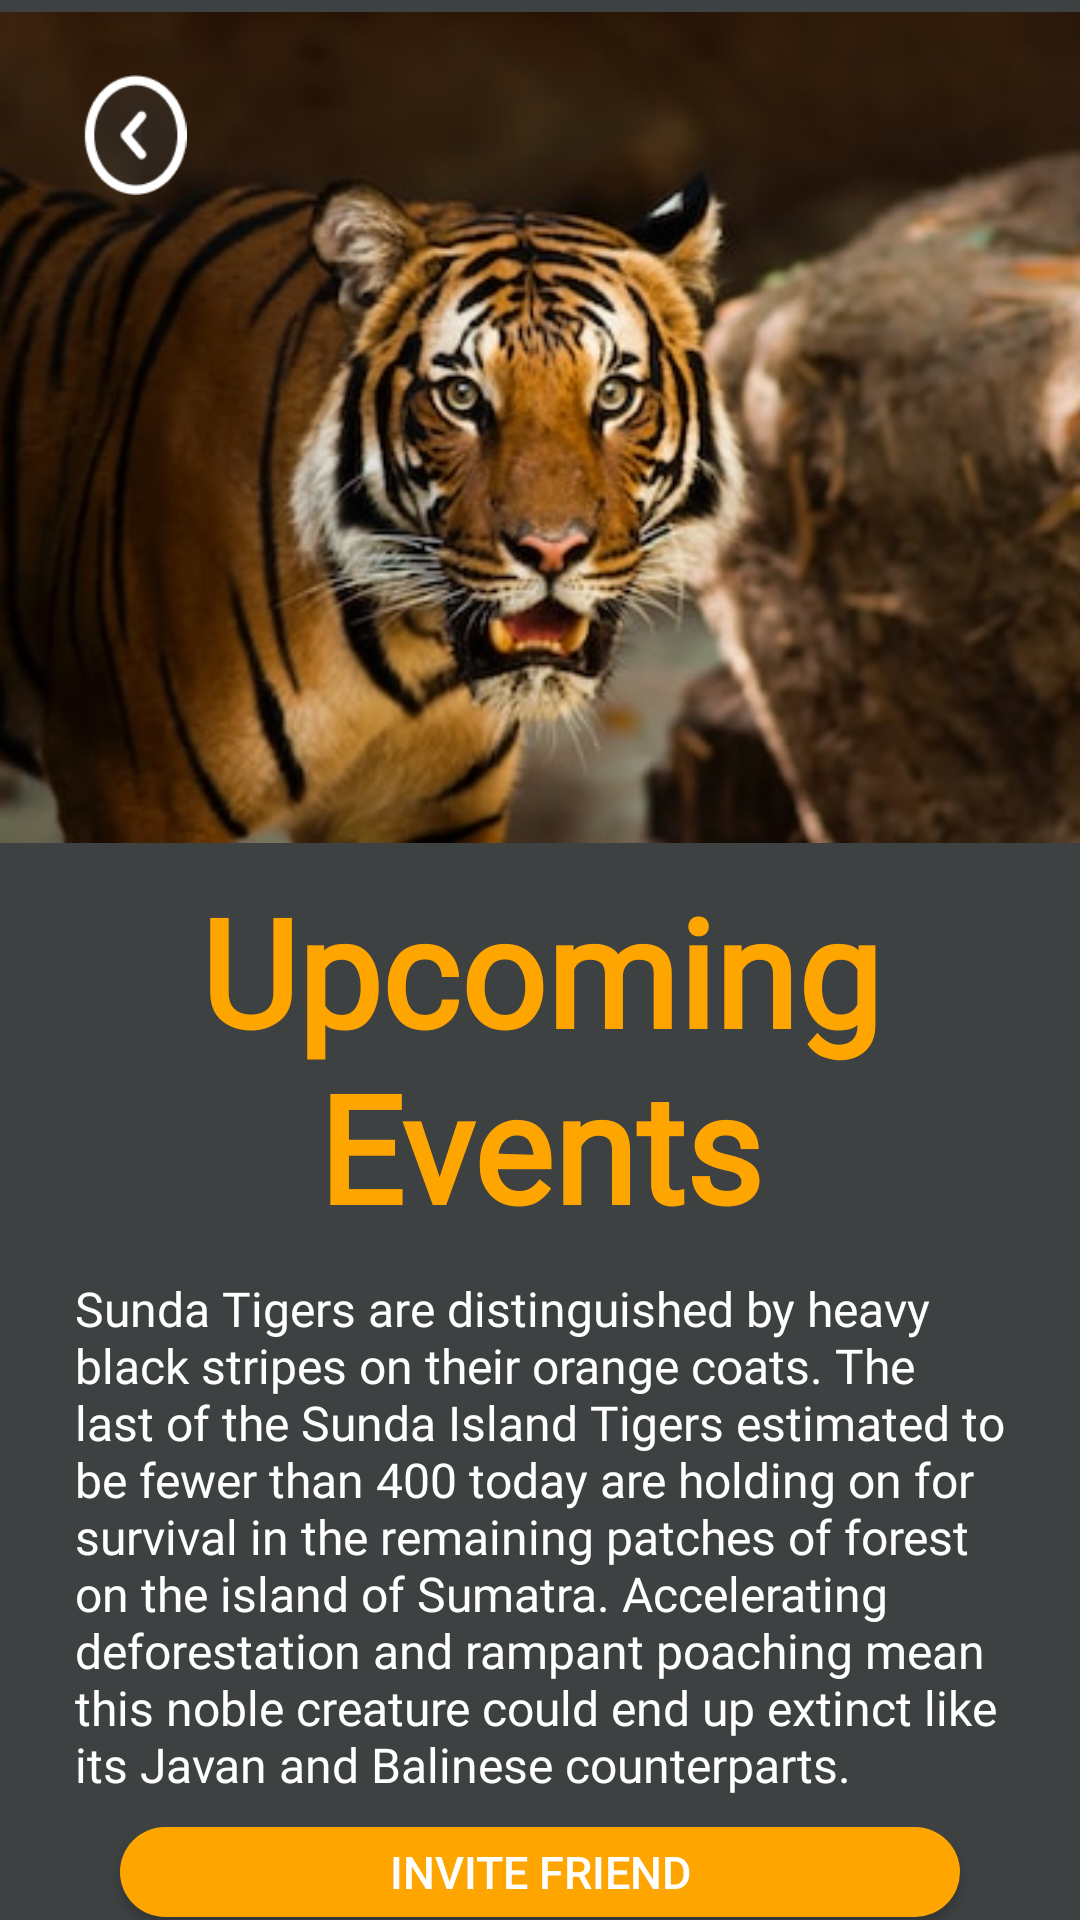

Locate icon controls on the screen. Image size 1080px x 1920px, boxes as (left=x1, top=y1, right=x2, bottom=y2).
back: (left=75, top=75, right=195, bottom=195)
